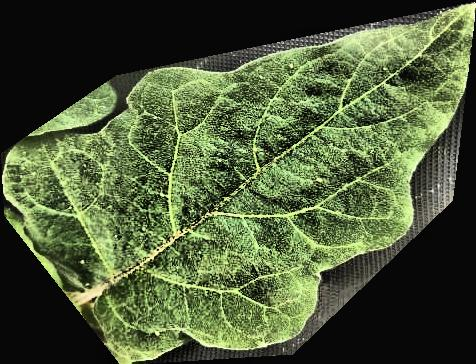HEALTHY: (1, 1, 476, 364)
